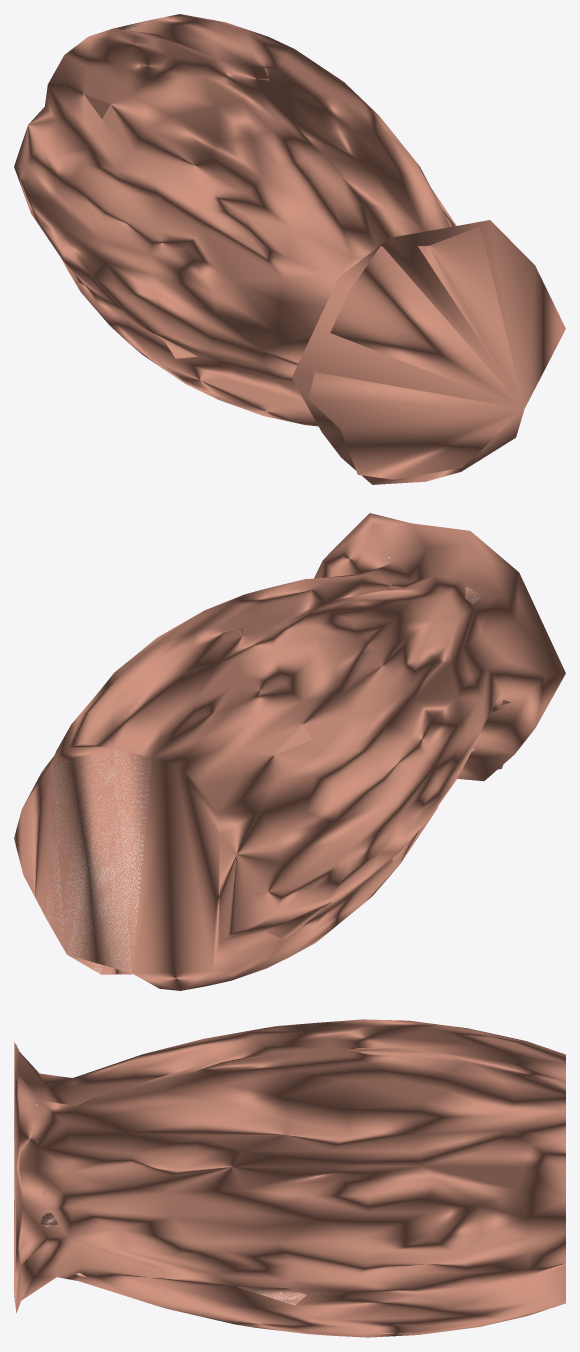
The model's file is model_align.obj.
3 renders of one model, top to bottom at view 1: azimuth 30°, elevation 25°; view 2: azimuth 150°, elevation 25°; view 3: azimuth 270°, elevation 25°, orthographic. The views are drawn at different scales.
Size of the model in its own units: 0.1361 by 0.1288 by 0.2361.
